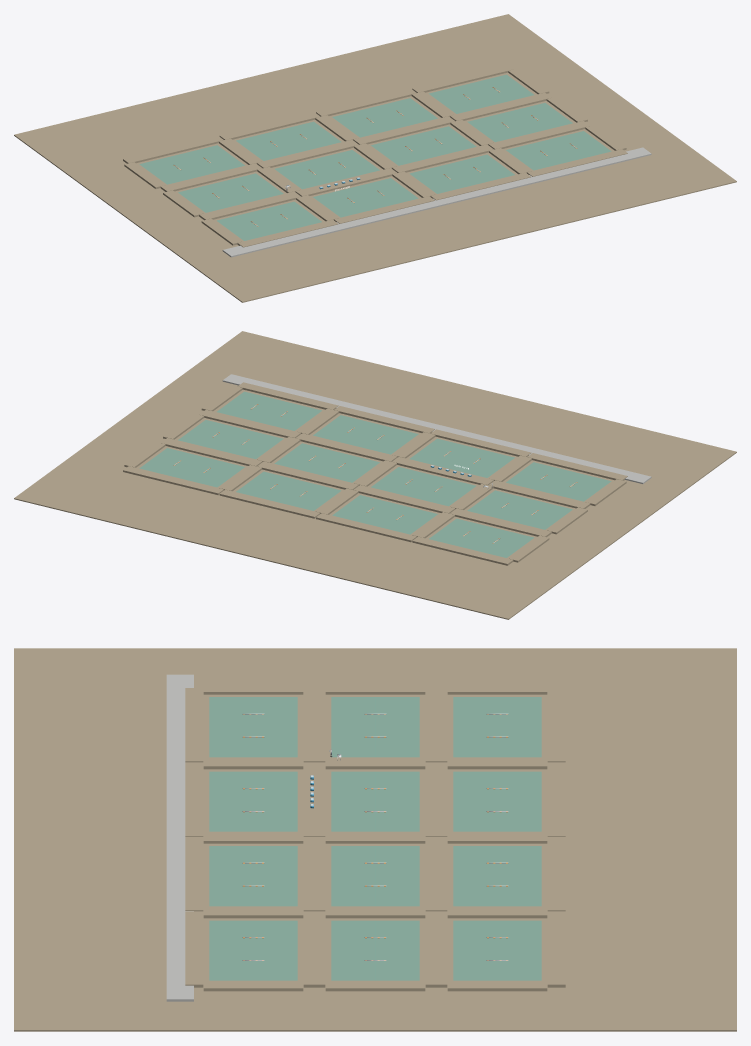
File: andhra_pond_grid.glb
3 views of the same model, one above another, from view 1: azimuth 30°, elevation 25°; view 2: azimuth 150°, elevation 25°; view 3: azimuth 270°, elevation 25° (orthographic). The views are drawn at different scales.
Parts seen in each view (by area): view 1: PondGround, BundRoad, PondWater00, PondWater20, PondWater02, PondWater10, PondWater12, PondWater13, PondWater22, PondWater23, PondWater01, PondWater11 (+19 smaller); view 2: PondGround, BundRoad, PondWater20, PondWater00, PondWater02, PondWater03, PondWater10, PondWater12, PondWater13, PondWater22, PondWater11, PondWater21 (+24 smaller); view 3: PondGround, BundRoad, PondWater00, PondWater02, PondWater12, PondWater20, PondWater22, PondWater10, PondWater01, PondWater03, PondWater11, PondWater13 (+54 smaller).
Boxes of the visible parts, x1,y1,x2,y2 form: PondGround: (14,14,736,302); BundRoad: (222,147,651,257); PondWater00: (217,201,321,240); PondWater20: (139,145,244,184); PondWater02: (409,154,514,193); PondWater10: (178,173,283,212); PondWater12: (371,126,476,165); PondWater13: (467,103,572,142); PondWater22: (332,98,437,137); PondWater23: (429,74,533,113); PondWater01: (313,178,418,217); PondWater11: (275,150,379,189); PondGround: (14,331,736,619); BundRoad: (222,374,651,483); PondWater20: (429,518,533,557); PondWater00: (506,462,611,501); PondWater02: (313,415,418,454); PondWater03: (217,391,321,430); PondWater10: (467,490,572,529); PondWater12: (274,443,379,482); PondWater13: (178,420,283,459); PondWater22: (236,471,341,510); PondWater11: (371,467,475,506); PondWater21: (332,495,437,534); PondGround: (14,648,736,1031); BundRoad: (166,674,193,1001); PondWater00: (209,697,297,757); PondWater02: (209,846,297,906); PondWater12: (331,846,419,906); PondWater20: (453,697,541,757); PondWater22: (453,846,541,906); PondWater10: (331,697,419,757); PondWater01: (209,771,297,831); PondWater03: (209,920,297,980); PondWater11: (331,771,419,831); PondWater13: (331,920,419,980).
Bounding box in the file's own units: 200 × 4.25 × 160.
